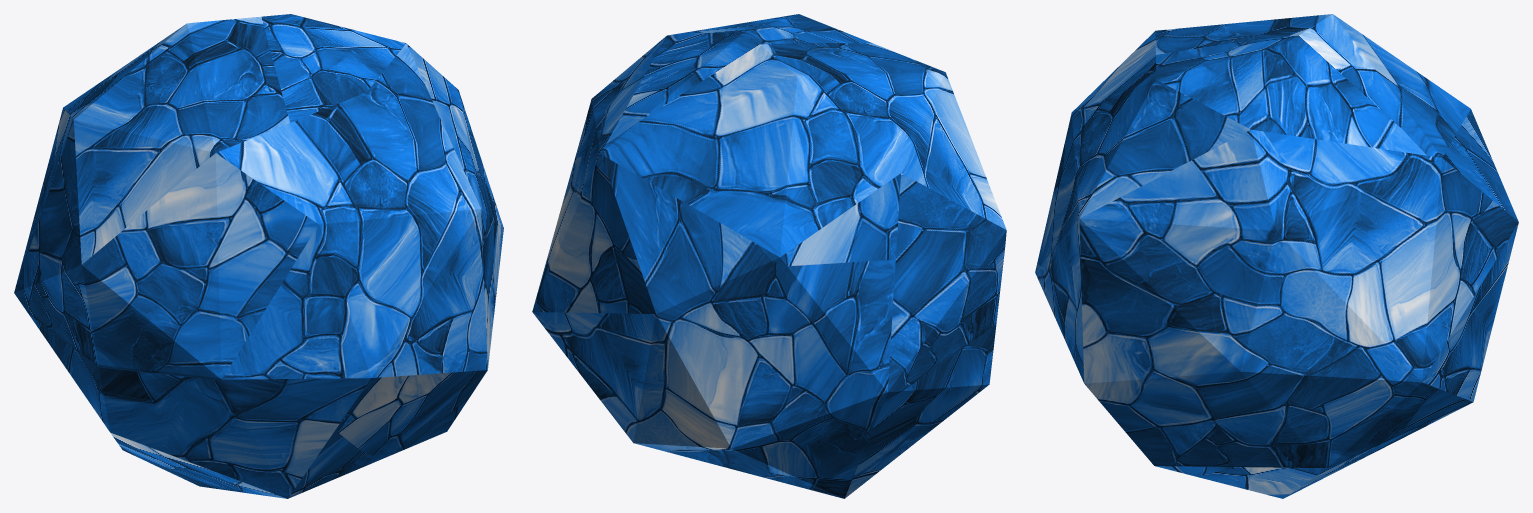
Rendered from star1Blue.glb.
3 views of the same model, side by side, from view 1: azimuth 30°, elevation 25°; view 2: azimuth 150°, elevation 25°; view 3: azimuth 270°, elevation 25° (orthographic). The views are drawn at different scales.
Visible parts, largest first — view 1: star1; view 2: star1; view 3: star1.
Boxes of the visible parts, x1,y1,x2,y2 form: star1: [14, 14, 503, 498]; star1: [532, 14, 1006, 498]; star1: [1035, 14, 1518, 498].
Bounding box in the file's own units: 1 × 1 × 1.
1 material, 1 textured.
